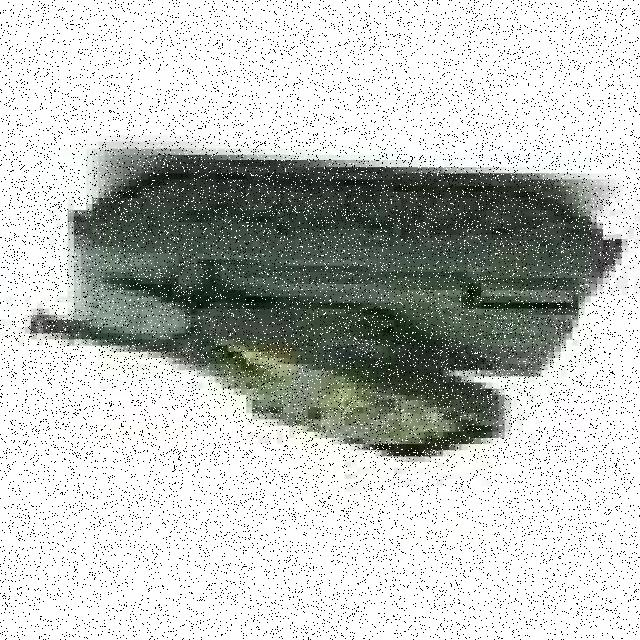MIL_MBT: (7, 143, 615, 461)
